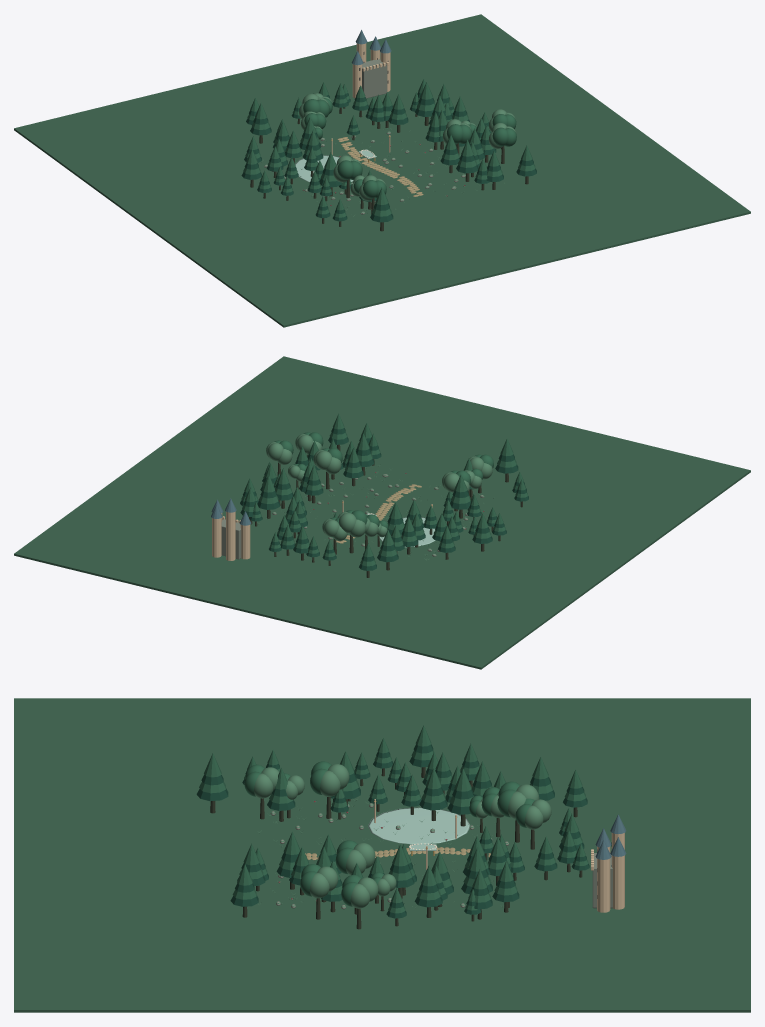
Rendered from dawn-BgP-kxip.glb.
The picture shows the model from 3 angles, top to bottom: view 1: azimuth 30°, elevation 25°; view 2: azimuth 150°, elevation 25°; view 3: azimuth 270°, elevation 25°; orthographic projection. The views are drawn at different scales.
Visible parts, largest first — view 1: Forest_ground, Forest_leaf, Forest_darkleaf, Forest_lightleaf, Forest_stone, Forest_bark, Forest_cream, Forest_path; view 2: Forest_ground, Forest_leaf, Forest_darkleaf, Forest_lightleaf, Forest_cream, Forest_bark, Forest_stone; view 3: Forest_ground, Forest_leaf, Forest_darkleaf, Forest_lightleaf, Forest_glass, Forest_bark, Forest_cream, Forest_blue, Forest_stone.
Part boxes in pixels (x1=…): Forest_ground: x1=14, y1=14, x2=750, y2=327; Forest_leaf: x1=243, y1=79, x2=535, y2=217; Forest_darkleaf: x1=241, y1=92, x2=536, y2=222; Forest_lightleaf: x1=261, y1=93, x2=516, y2=216; Forest_stone: x1=264, y1=59, x2=465, y2=214; Forest_bark: x1=250, y1=107, x2=528, y2=231; Forest_cream: x1=331, y1=43, x2=425, y2=154; Forest_path: x1=337, y1=137, x2=423, y2=196; Forest_ground: x1=14, y1=356, x2=750, y2=669; Forest_leaf: x1=241, y1=413, x2=527, y2=566; Forest_darkleaf: x1=240, y1=427, x2=528, y2=570; Forest_lightleaf: x1=258, y1=434, x2=493, y2=560; Forest_cream: x1=212, y1=500, x2=432, y2=560; Forest_bark: x1=249, y1=444, x2=522, y2=577; Forest_stone: x1=221, y1=474, x2=484, y2=559; Forest_ground: x1=14, y1=698, x2=750, y2=1012; Forest_leaf: x1=199, y1=725, x2=588, y2=913; Forest_darkleaf: x1=196, y1=744, x2=589, y2=918; Forest_lightleaf: x1=254, y1=764, x2=551, y2=908; Forest_glass: x1=368, y1=807, x2=470, y2=850; Forest_bark: x1=210, y1=767, x2=582, y2=929; Forest_cream: x1=291, y1=799, x2=624, y2=912; Forest_blue: x1=595, y1=814, x2=626, y2=859; Forest_stone: x1=270, y1=803, x2=612, y2=909.
Size of the model in its own units: 100 by 12.93 by 100.
